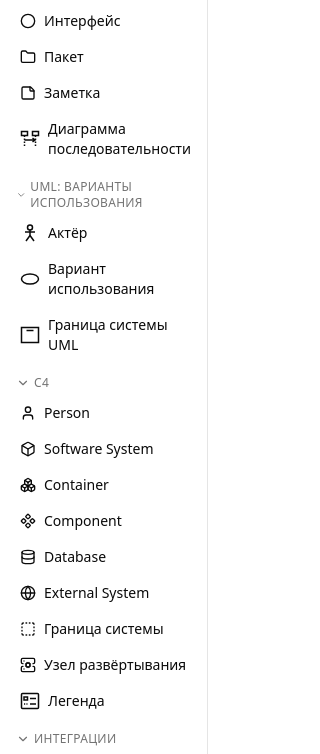
it: ShapePalette › collapses and expands a section with a click on its title
(page scrolled)
What coordinates should you click on to do the following:
click the heading "C4"
I would click on:
 (33, 382)
Its box is x1=16 y1=374 x2=49 y2=391.
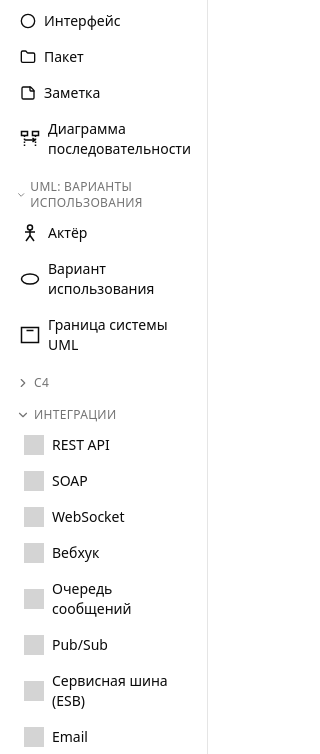
Check: the button "Container" is gone
What coordinates should you click on to do the following:
click the heading "C4"
I would click on:
 (33, 382)
Its box is x1=16 y1=374 x2=49 y2=391.
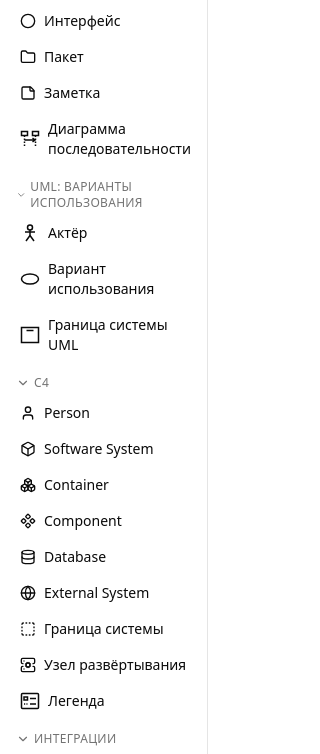
Check: the button "Container" is shown, box x1=8 y1=469 x2=199 y2=501
